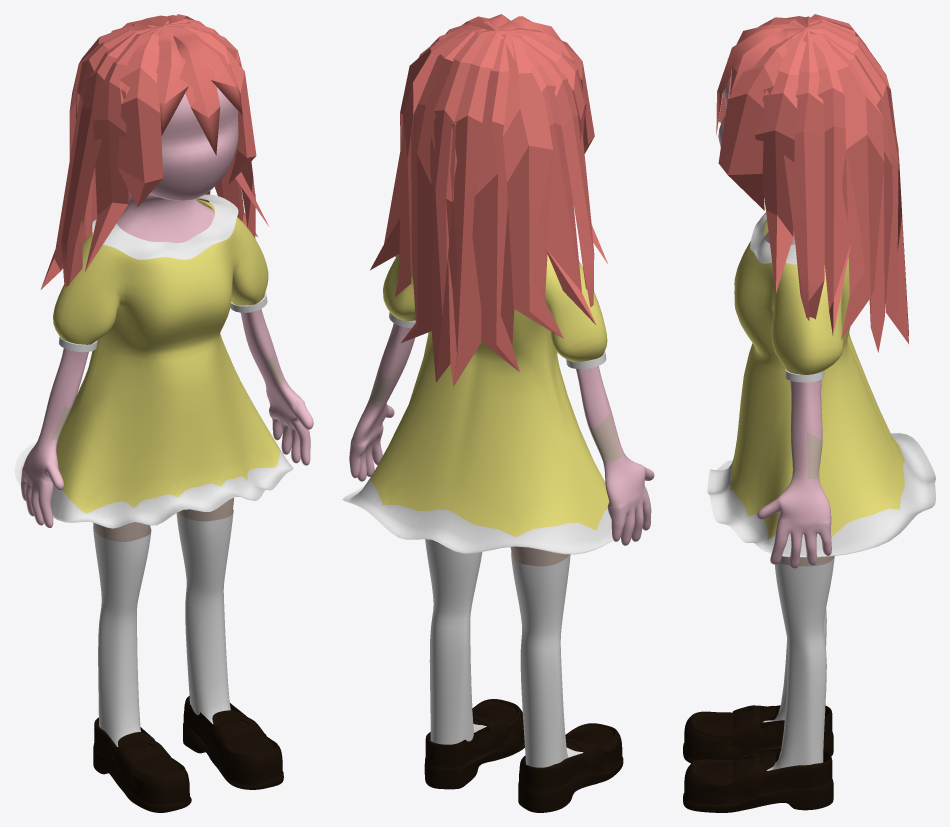
File: chara.fbx
3 views of the same model, side by side, from view 1: azimuth 30°, elevation 25°; view 2: azimuth 150°, elevation 25°; view 3: azimuth 270°, elevation 25° (orthographic). The views are drawn at different scales.
Visible parts, largest first — view 1: polySurface35; view 2: polySurface35; view 3: polySurface35.
Boxes of the visible parts, left/top/right/bottom form: polySurface35: left=14, top=14, right=313, bottom=812; polySurface35: left=342, top=14, right=654, bottom=812; polySurface35: left=683, top=14, right=935, bottom=812.
Bounding box in the file's own units: 1.63 × 4.2 × 1.28.
